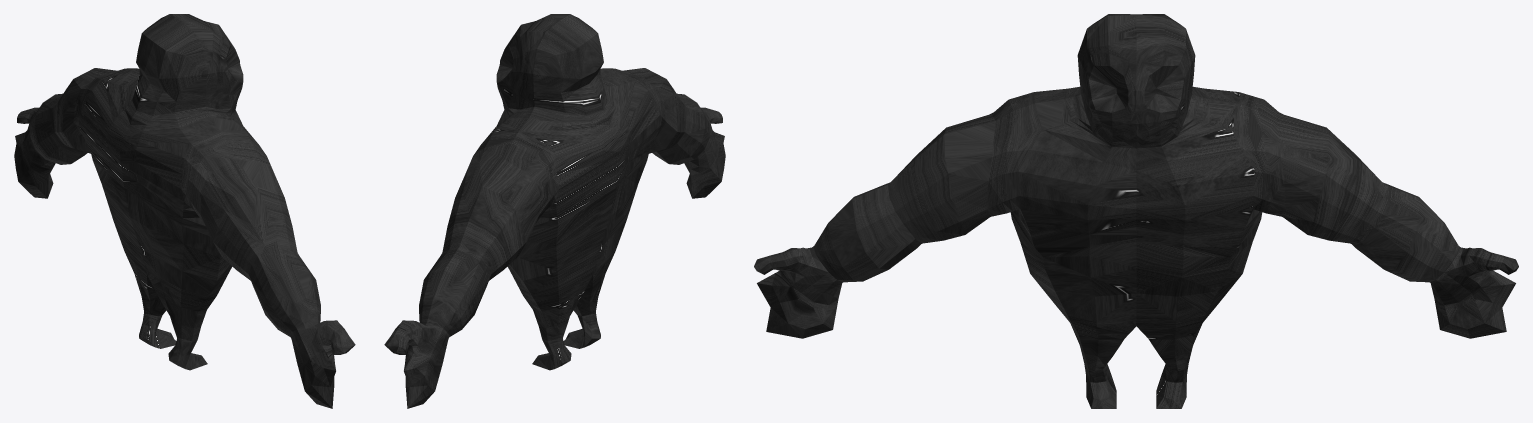
Rendered from enemy_big.fbx.
The picture shows the model from 3 angles, left to right: view 1: azimuth 30°, elevation 25°; view 2: azimuth 150°, elevation 25°; view 3: azimuth 270°, elevation 25°; orthographic projection. The views are drawn at different scales.
Parts seen in each view (by area): view 1: enemy_big; view 2: enemy_big; view 3: enemy_big.
Boxes of the visible parts, box(x1,y1,x2,y2) form: enemy_big: box(14, 14, 355, 408); enemy_big: box(384, 14, 725, 408); enemy_big: box(754, 14, 1518, 408).
Bounding box in the file's own units: 0.7177 × 1.93 × 3.42.
1 material, 1 textured.
